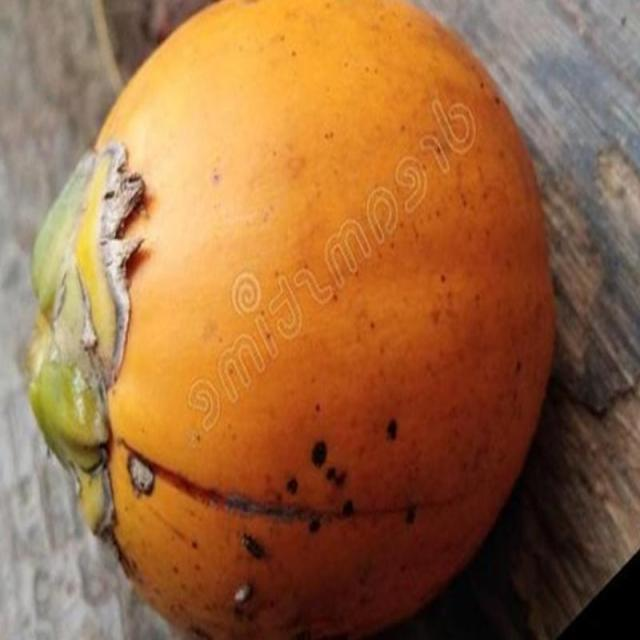good: (25, 0, 558, 639)
